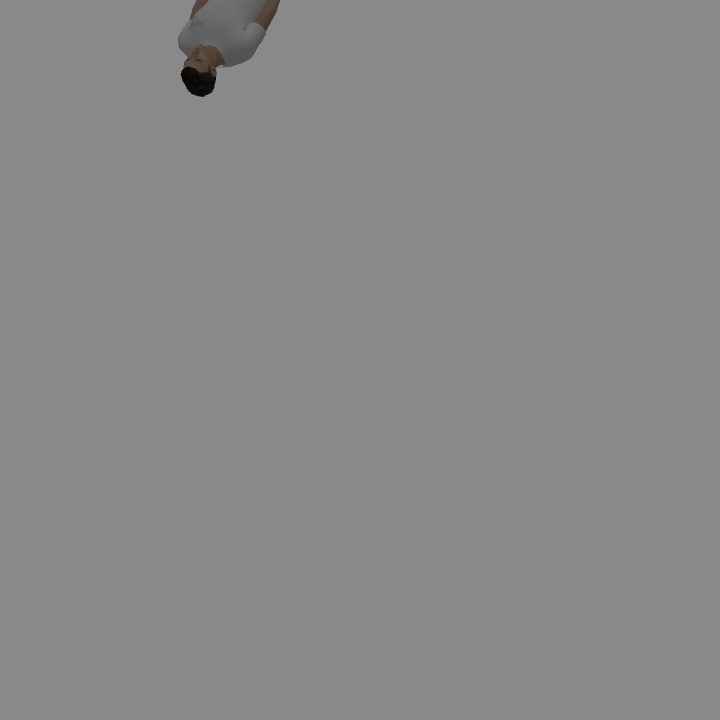victim: (182, 1, 280, 92)
